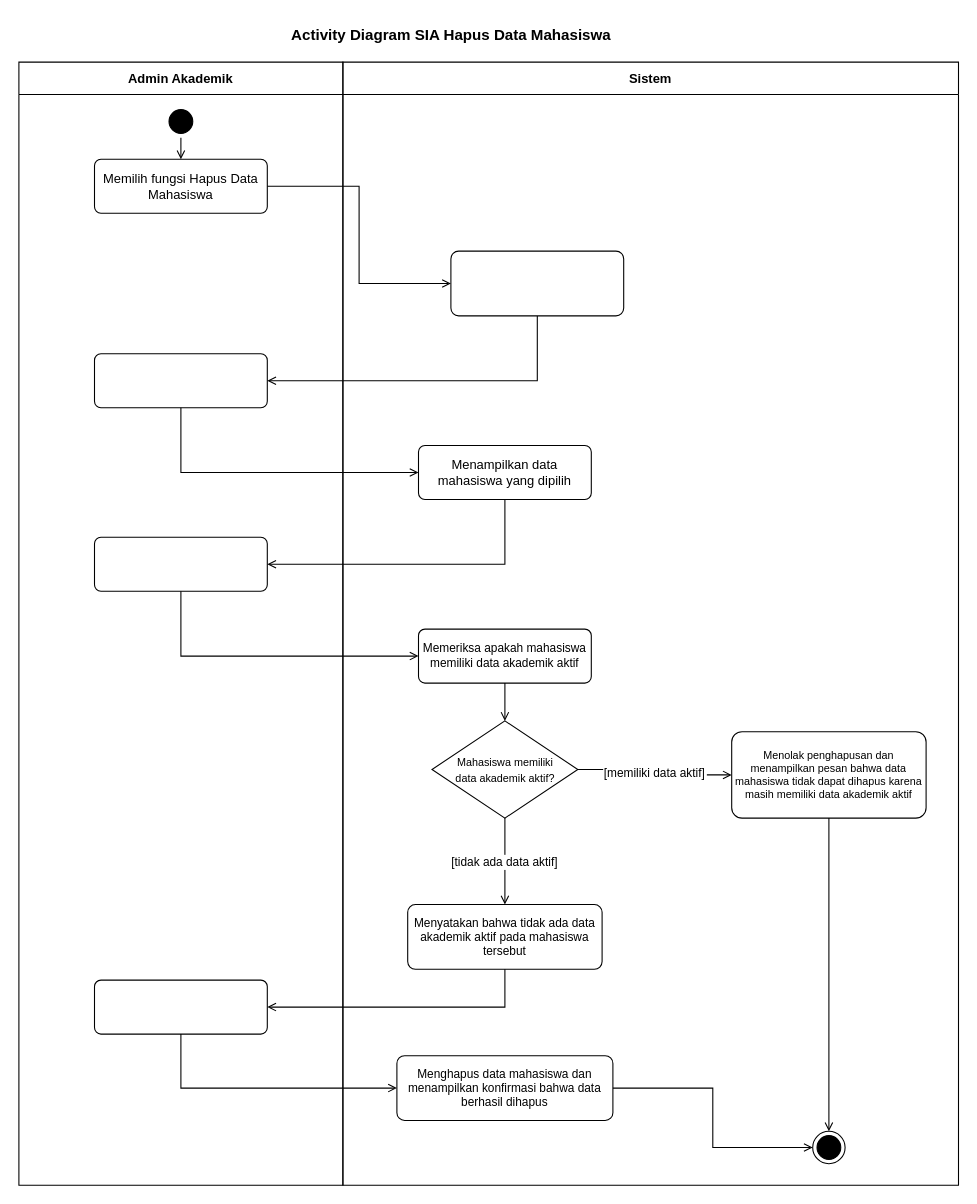
The diagram is 977 pixels wide and 1204 high, and some of its shapes have lost their labels. The centre of each missing label's shape, as x and y in pixels:
"Memilih data mahasiswa yang akan dihapus" goes at (x=180, y=380).
"Mengajukan penghapusan data mahasiswa" goes at (x=180, y=563).
"Mengonfirmasi penghapusan data mahasiswa" goes at (x=180, y=1006).
"Menjalankan langkah umum pengelolaan data mahasiswa (lihat SIA-UC10)" goes at (x=537, y=283).
